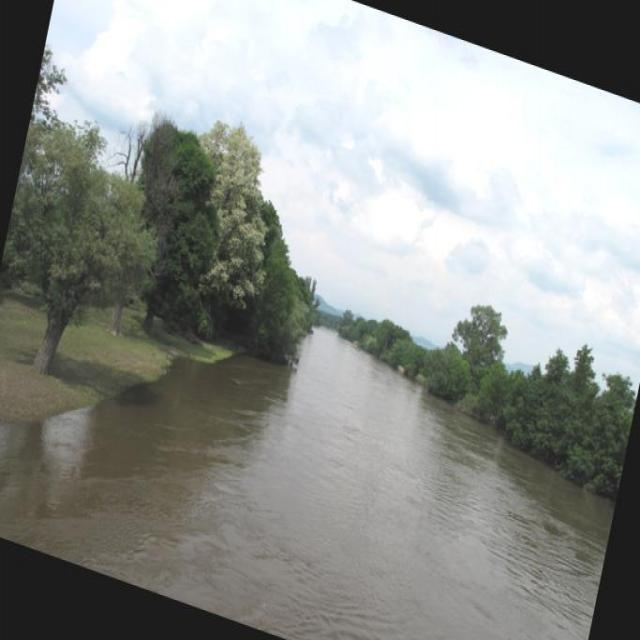flood: (0, 216, 628, 639)
